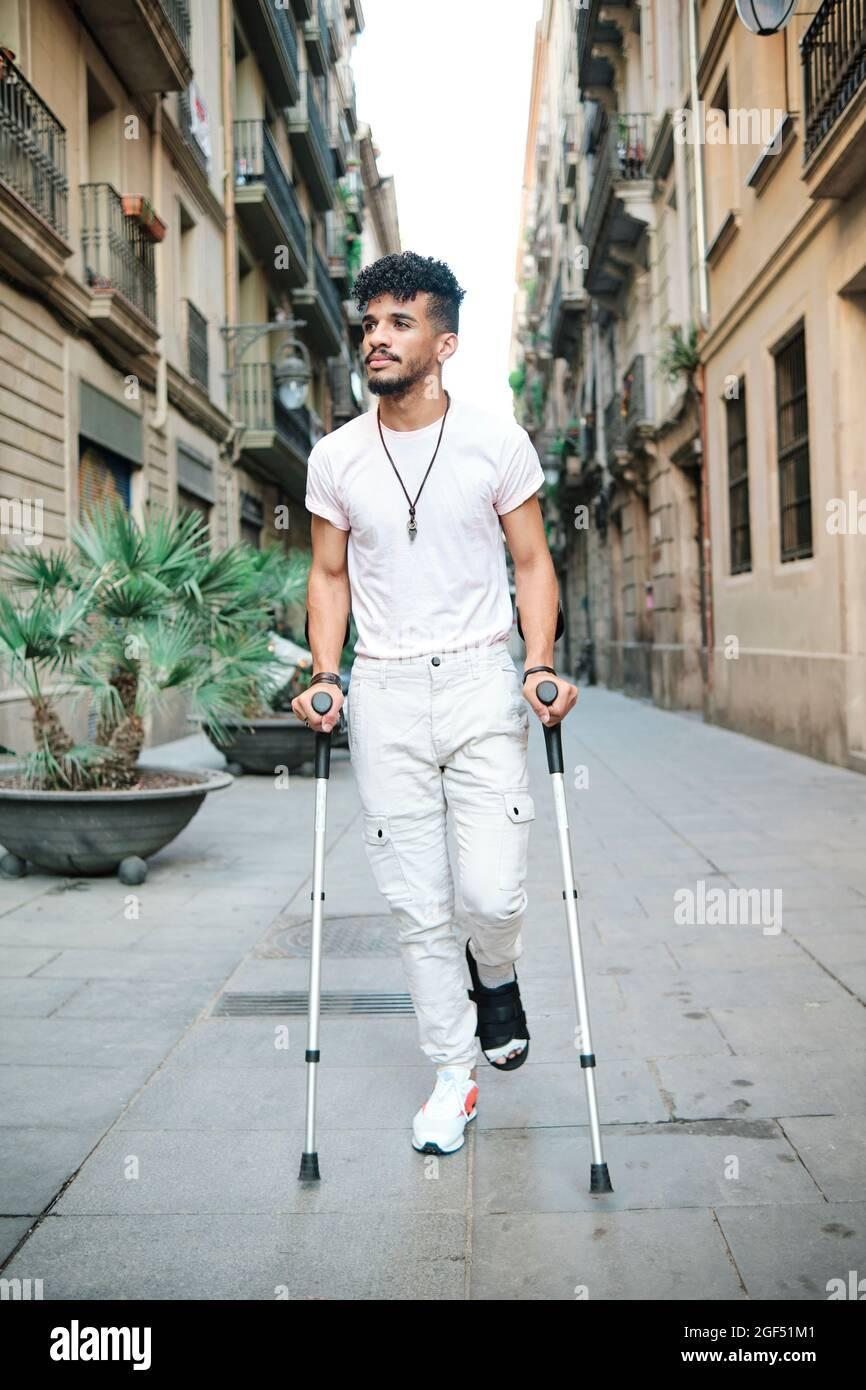crutches: (291, 252, 614, 1194)
